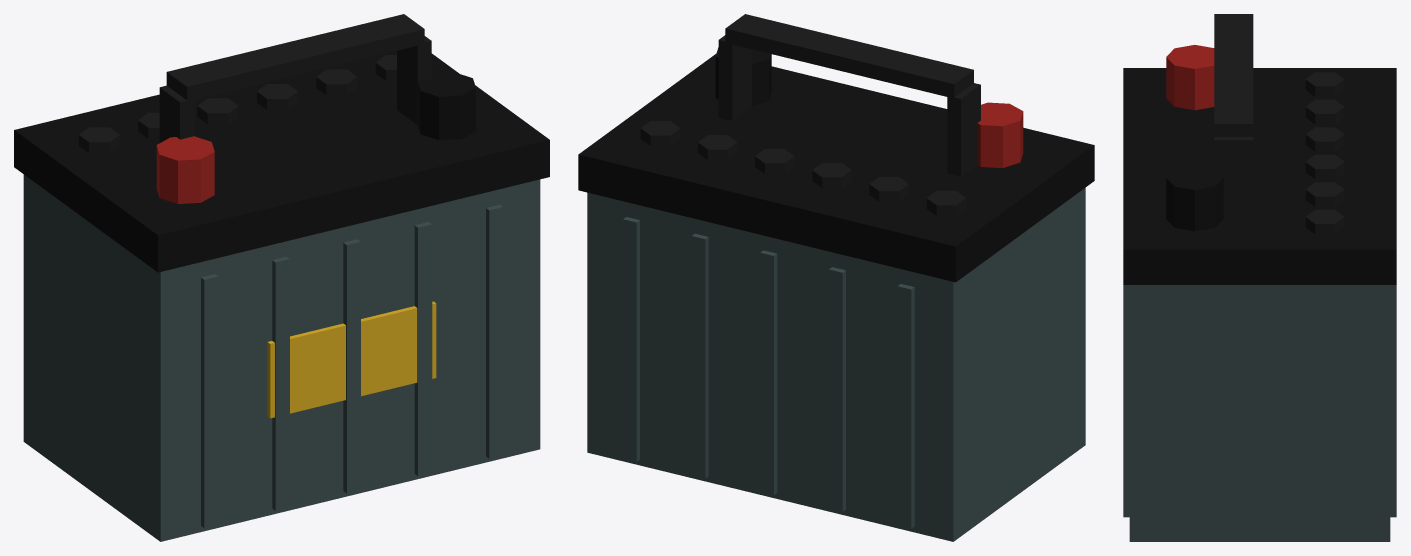
Rendered from scrap_old_battery.fbx.
3 renders of one model, left to right at view 1: azimuth 30°, elevation 25°; view 2: azimuth 150°, elevation 25°; view 3: azimuth 270°, elevation 25°, orthographic. The views are drawn at different scales.
Parts seen in each view (by area): view 1: scrap_old_battery; view 2: scrap_old_battery; view 3: scrap_old_battery.
Boxes of the visible parts, box(x1,y1,x2,y2) form: scrap_old_battery: box(14, 14, 549, 541); scrap_old_battery: box(578, 14, 1094, 541); scrap_old_battery: box(1123, 14, 1396, 541).
Bounding box in the file's own units: 0.33 × 0.326 × 0.21.
1 material, 1 textured.
